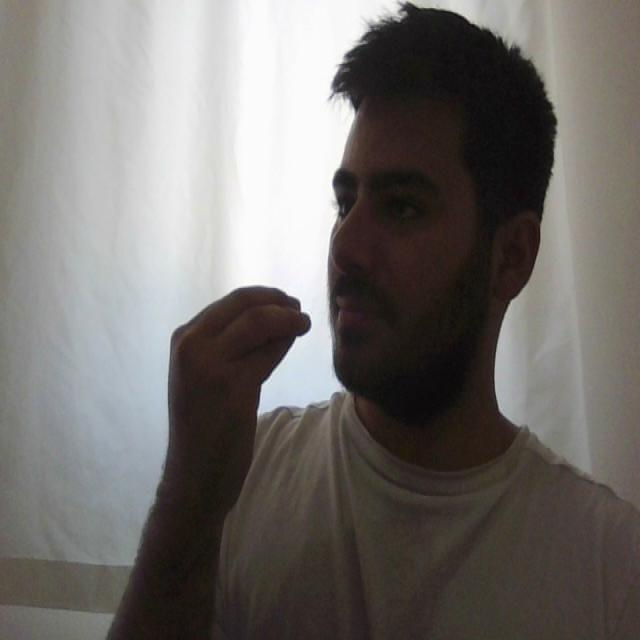Yemek: (166, 268, 384, 362)
